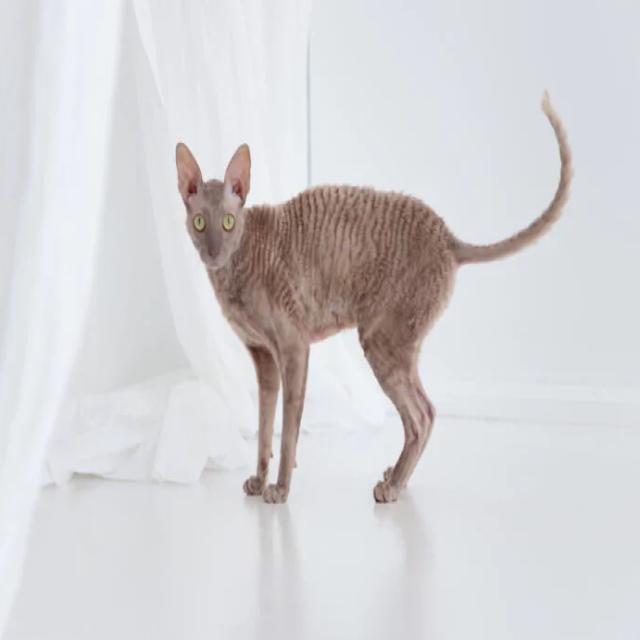Cornish Rex: (171, 83, 578, 517)
